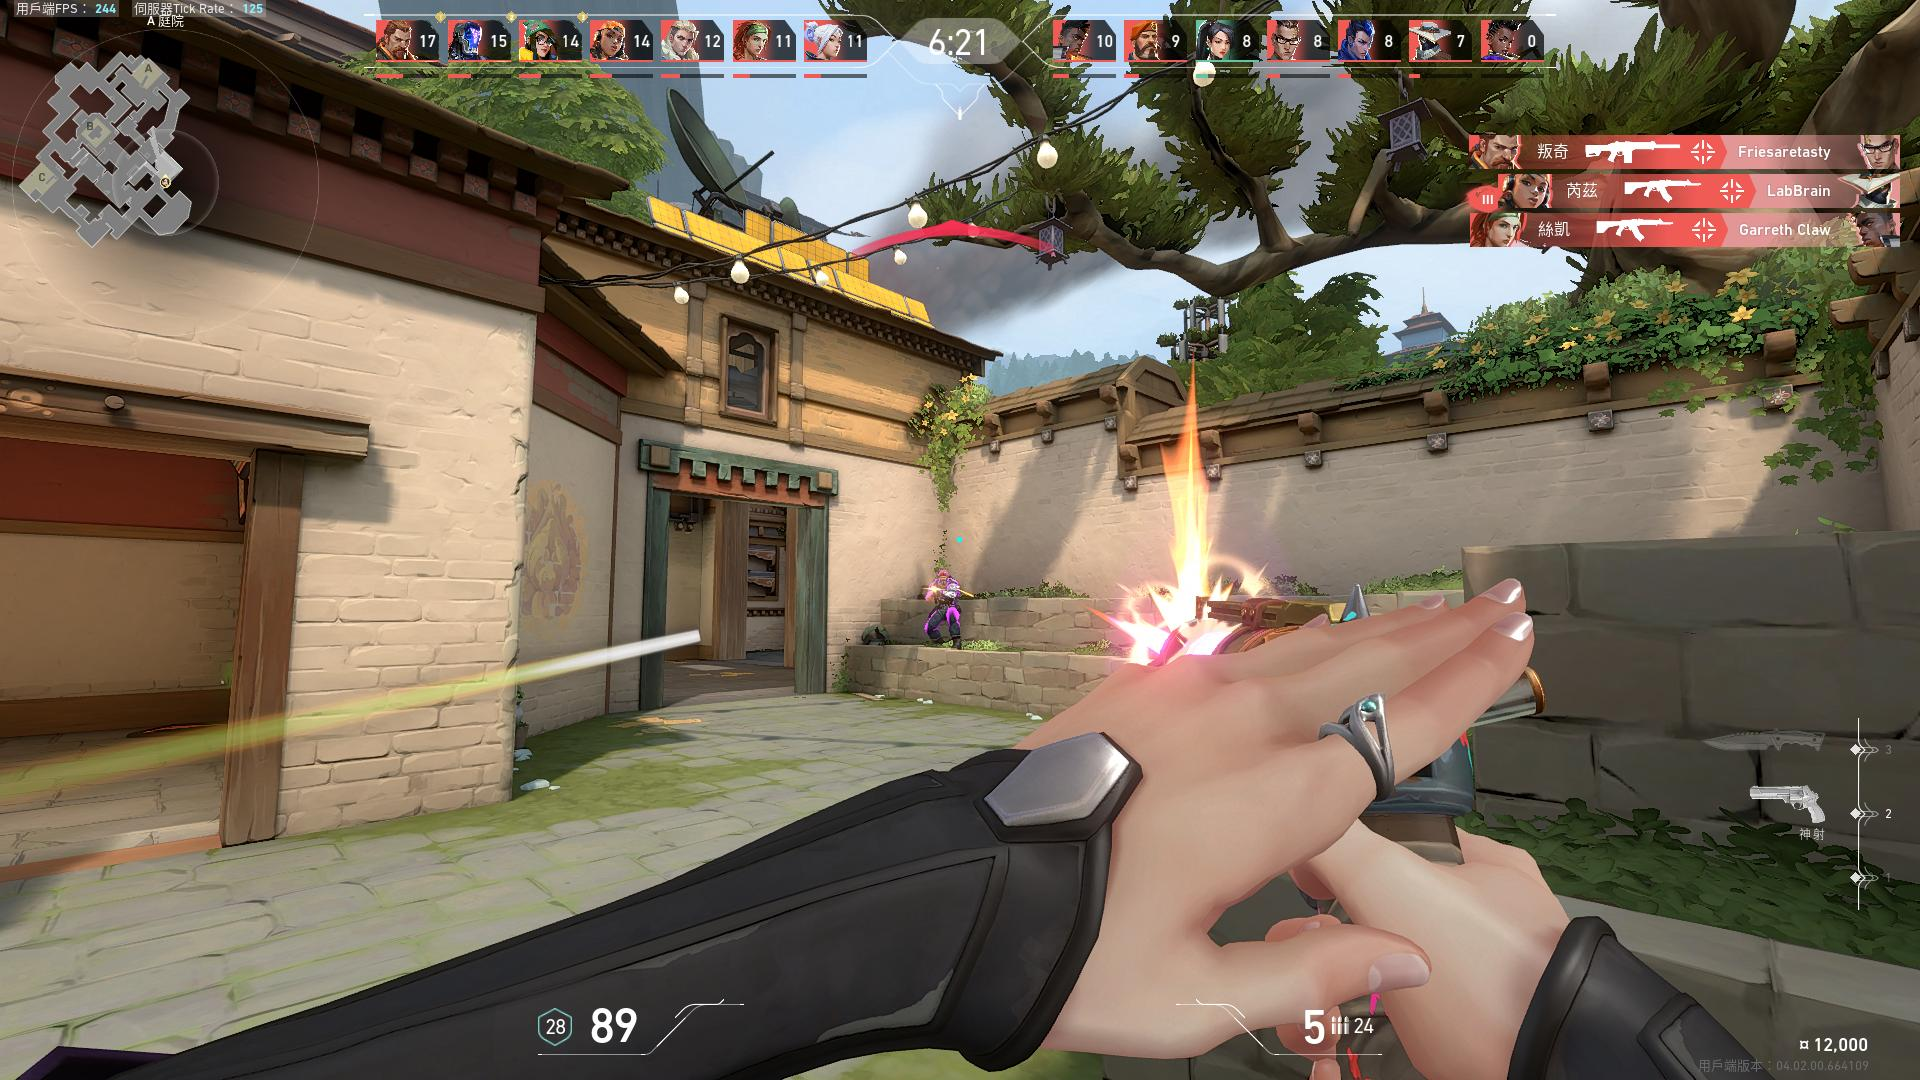enemyBody: (939, 585, 949, 607)
enemyHead: (940, 575, 948, 583)
